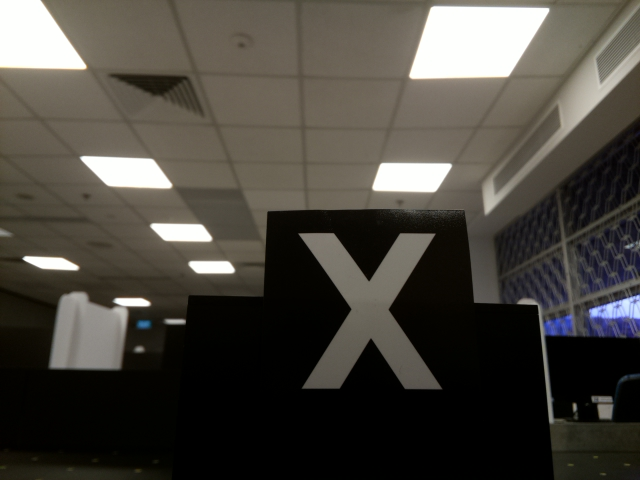x: (294, 229, 447, 403)
